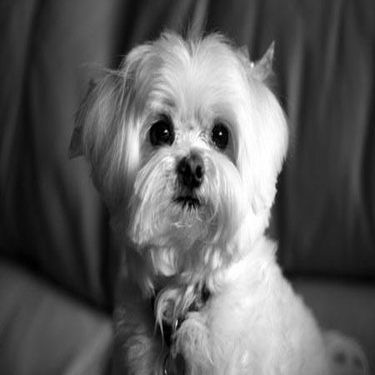dog: (58, 23, 370, 373)
